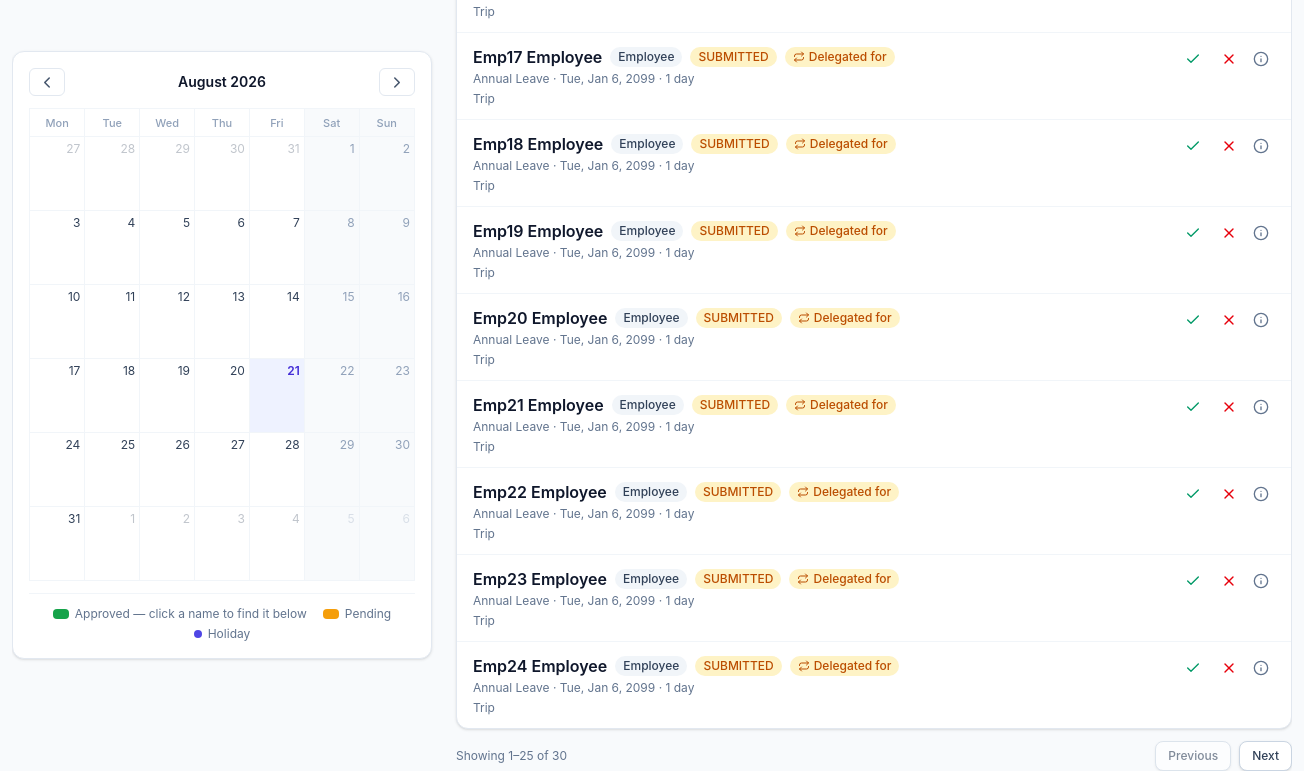
Test: ApprovalsPage › pages the list while the calendar keeps its whole month
This screenshot has width=1304, height=771.
(page scrolled)
Check: the text "Showing 1–25 of 30" is shown, box [456,748,567,764]
Exact match: FullCalendar's toolbar has its own "Next month" button.
Click the button "Next" at point(1266, 756), box [1239,741,1292,770]
(page scrolled)
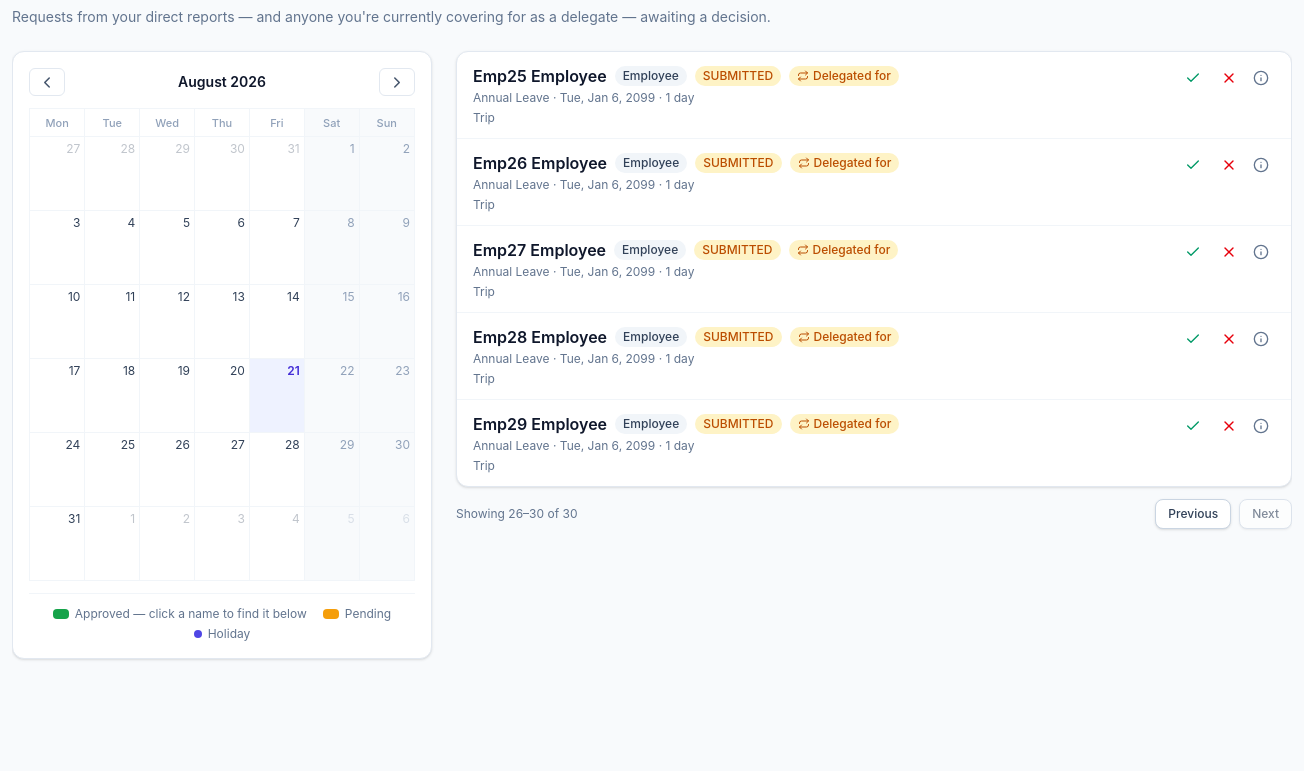
Check: the text "Showing 26–30 of 30" is shown, box [456,506,578,522]
